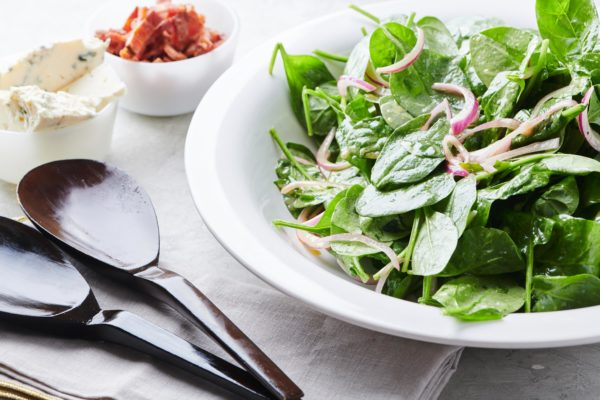bacon: (126, 6, 187, 60)
